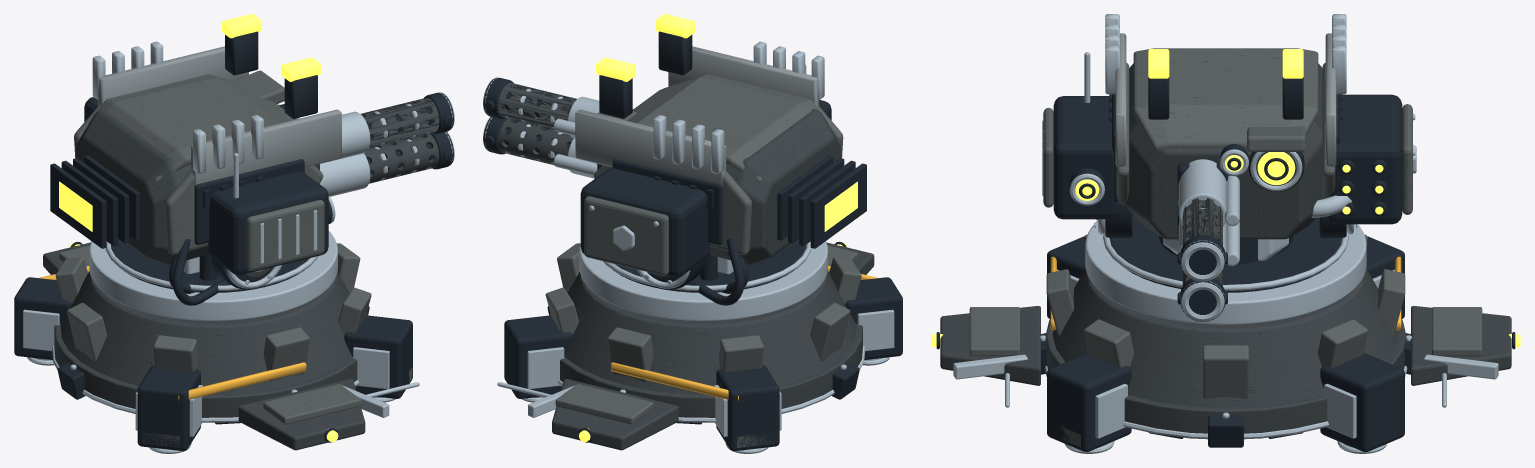
File: turret.glb
The picture shows the model from 3 angles, left to right: view 1: azimuth 30°, elevation 25°; view 2: azimuth 150°, elevation 25°; view 3: azimuth 270°, elevation 25°; orthographic projection. The views are drawn at different scales.
Parts seen in each view (by area): view 1: AnchoredBase.001_CONCEPT2_armor.002, AimingHead.001_CONCEPT2_ceramic.002, AimingHead.001_CONCEPT2_dark.002, AnchoredBase.001_CONCEPT2_dark.002, AimingHead.001_CONCEPT2_armor.002, AnchoredBase.001_CONCEPT2_steel.002, AnchoredBase.001_CONCEPT2_ceramic.002, REFIT turret head cheek armor.001, AimingHead.001_CONCEPT2_steel.002, REFIT turret head cheek armor, AnchoredBase.001_CONCEPT2_edge.002, AimingHead.001_CONCEPT2_rubber.002 (+11 smaller); view 2: AnchoredBase.001_CONCEPT2_armor.002, AimingHead.001_CONCEPT2_ceramic.002, AimingHead.001_CONCEPT2_dark.002, AnchoredBase.001_CONCEPT2_dark.002, AimingHead.001_CONCEPT2_armor.002, AnchoredBase.001_CONCEPT2_steel.002, AnchoredBase.001_CONCEPT2_ceramic.002, REFIT turret head cheek armor, REFIT turret head cheek armor.001, AimingHead.001_CONCEPT2_steel.002, AnchoredBase.001_CONCEPT2_edge.002, AimingHead.001_CONCEPT2_rubber.002 (+11 smaller); view 3: AnchoredBase.001_CONCEPT2_armor.002, AnchoredBase.001_CONCEPT2_dark.002, AimingHead.001_CONCEPT2_dark.002, AimingHead.001_CONCEPT2_ceramic.002, AnchoredBase.001_CONCEPT2_ceramic.002, AnchoredBase.001_CONCEPT2_steel.002, AimingHead.001_CONCEPT2_armor.002, AimingHead.001_CONCEPT2_steel.002, AnchoredBase.001_CONCEPT2_edge.002, AimingHead.001_CONCEPT2_edge.002, AimingHead.001_CONCEPT2_orange.002, REFIT turret head cheek armor (+7 smaller).
Boxes of the visible parts, <box> form: AnchoredBase.001_CONCEPT2_armor.002: <box>43,242,367,450</box>; AimingHead.001_CONCEPT2_ceramic.002: <box>74,70,324,270</box>; AimingHead.001_CONCEPT2_dark.002: <box>50,92,453,289</box>; AnchoredBase.001_CONCEPT2_dark.002: <box>14,239,412,451</box>; AimingHead.001_CONCEPT2_armor.002: <box>76,97,439,278</box>; AnchoredBase.001_CONCEPT2_steel.002: <box>23,231,419,436</box>; AnchoredBase.001_CONCEPT2_ceramic.002: <box>55,243,412,446</box>; REFIT turret head cheek armor.001: <box>191,109,341,185</box>; AimingHead.001_CONCEPT2_steel.002: <box>183,92,454,288</box>; REFIT turret head cheek armor: <box>98,46,248,105</box>; AnchoredBase.001_CONCEPT2_edge.002: <box>27,241,395,453</box>; AimingHead.001_CONCEPT2_rubber.002: <box>169,115,452,305</box>; AnchoredBase.001_CONCEPT2_armor.002: <box>549,242,874,450</box>; AimingHead.001_CONCEPT2_ceramic.002: <box>584,74,843,275</box>; AimingHead.001_CONCEPT2_dark.002: <box>483,77,866,289</box>; AnchoredBase.001_CONCEPT2_dark.002: <box>504,239,902,451</box>; AimingHead.001_CONCEPT2_armor.002: <box>498,82,841,278</box>; AnchoredBase.001_CONCEPT2_steel.002: <box>497,241,894,436</box>; AnchoredBase.001_CONCEPT2_ceramic.002: <box>545,243,861,447</box>; REFIT turret head cheek armor: <box>575,109,726,186</box>; REFIT turret head cheek armor.001: <box>668,46,819,105</box>; AimingHead.001_CONCEPT2_steel.002: <box>483,64,806,288</box>; AnchoredBase.001_CONCEPT2_edge.002: <box>521,241,889,453</box>; AimingHead.001_CONCEPT2_rubber.002: <box>485,100,748,305</box>; AnchoredBase.001_CONCEPT2_armor.002: <box>940,268,1511,433</box>; AnchoredBase.001_CONCEPT2_dark.002: <box>936,214,1515,451</box>; AimingHead.001_CONCEPT2_dark.002: <box>1053,94,1402,321</box>; AimingHead.001_CONCEPT2_ceramic.002: <box>1043,48,1412,214</box>; AnchoredBase.001_CONCEPT2_ceramic.002: <box>969,234,1482,447</box>; AnchoredBase.001_CONCEPT2_steel.002: <box>1005,220,1446,447</box>; AimingHead.001_CONCEPT2_armor.002: <box>1096,63,1324,285</box>; AimingHead.001_CONCEPT2_steel.002: <box>1042,52,1416,321</box>; AnchoredBase.001_CONCEPT2_edge.002: <box>953,232,1498,453</box>; AimingHead.001_CONCEPT2_edge.002: <box>1069,149,1302,214</box>; AimingHead.001_CONCEPT2_orange.002: <box>1075,152,1383,214</box>; REFIT turret head cheek armor: <box>1325,33,1336,166</box>.
Size of the model in its own units: 1.16 by 0.973 by 1.4.
9 materials, 2 textured.
